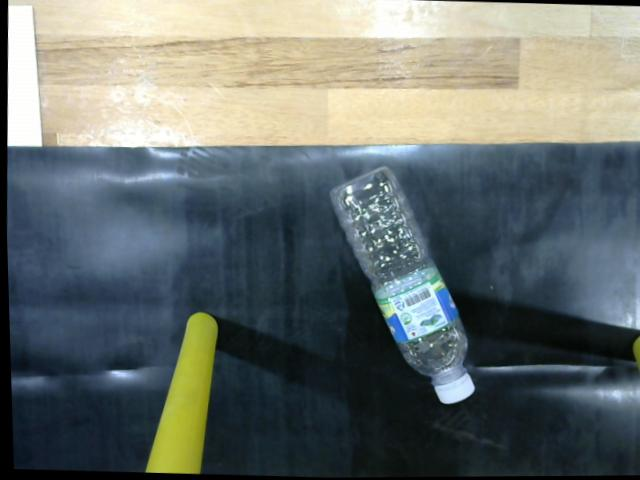bottle: (324, 159, 484, 411)
